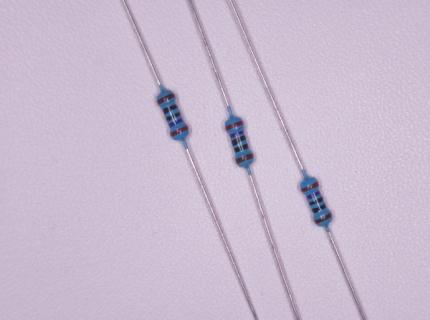Black band: (311, 203, 327, 214), (162, 104, 178, 115), (232, 135, 247, 146), (234, 143, 249, 153), (166, 112, 181, 121), (309, 197, 324, 206)
Brown band: (157, 92, 176, 105), (235, 153, 254, 164), (315, 212, 332, 224)
Red band: (170, 125, 189, 137), (225, 120, 244, 132), (301, 181, 319, 192)
Violet band: (168, 118, 184, 128), (306, 190, 321, 199), (229, 131, 244, 139)
